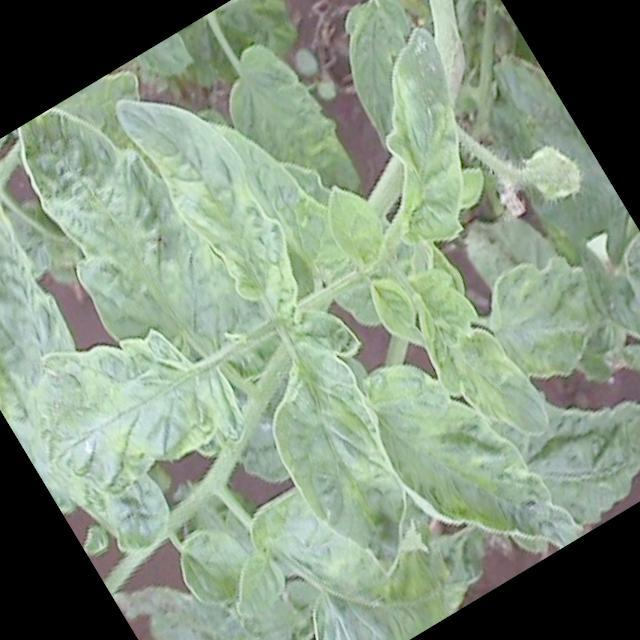Tomato mosaic virus leaf: (0, 77, 260, 400), (346, 310, 588, 592), (230, 318, 453, 591), (107, 56, 320, 330), (12, 288, 247, 516), (313, 15, 526, 256), (390, 251, 559, 466), (469, 232, 633, 392), (310, 172, 402, 279), (220, 546, 302, 630)
